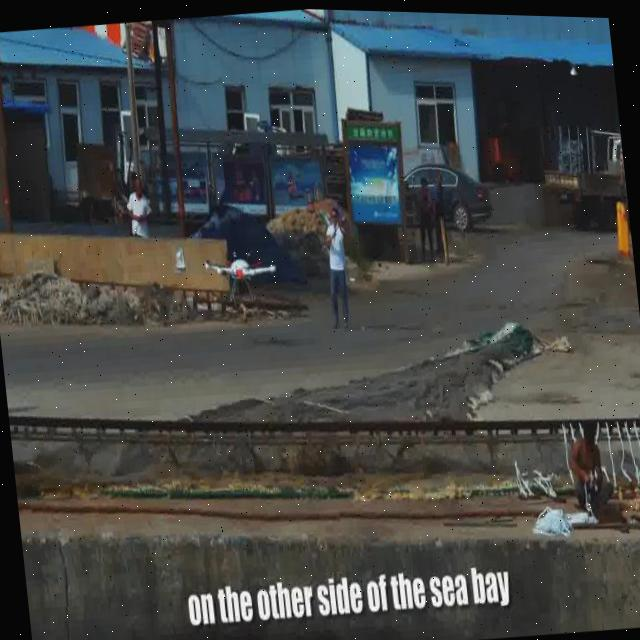drone: (202, 236, 280, 299)
